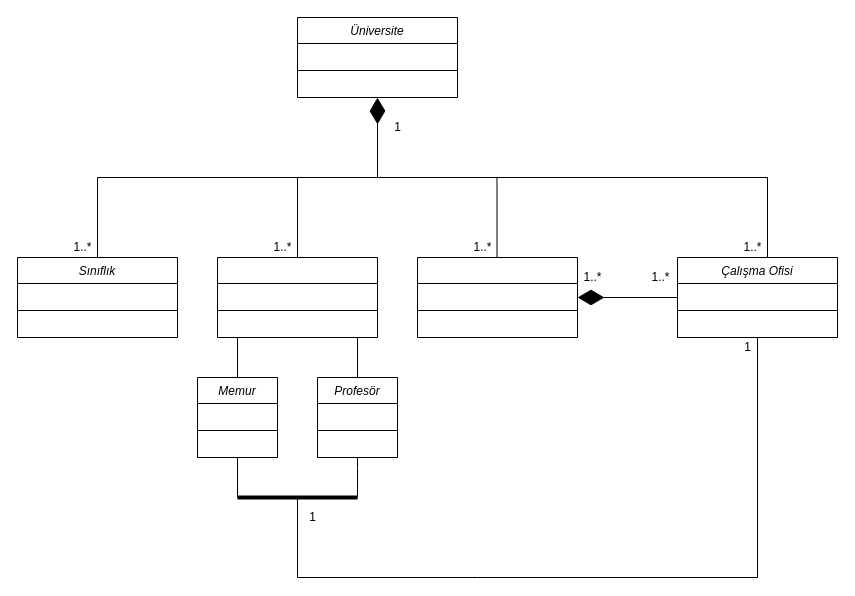
Image size: 855x596. Some labels were removed from this diagram. The shapes that lost their labels are listed below. From the top down, each one's centre as x and y in pixels, then its label:
the point at 297,297: Çalışan
the point at 497,297: Departman
